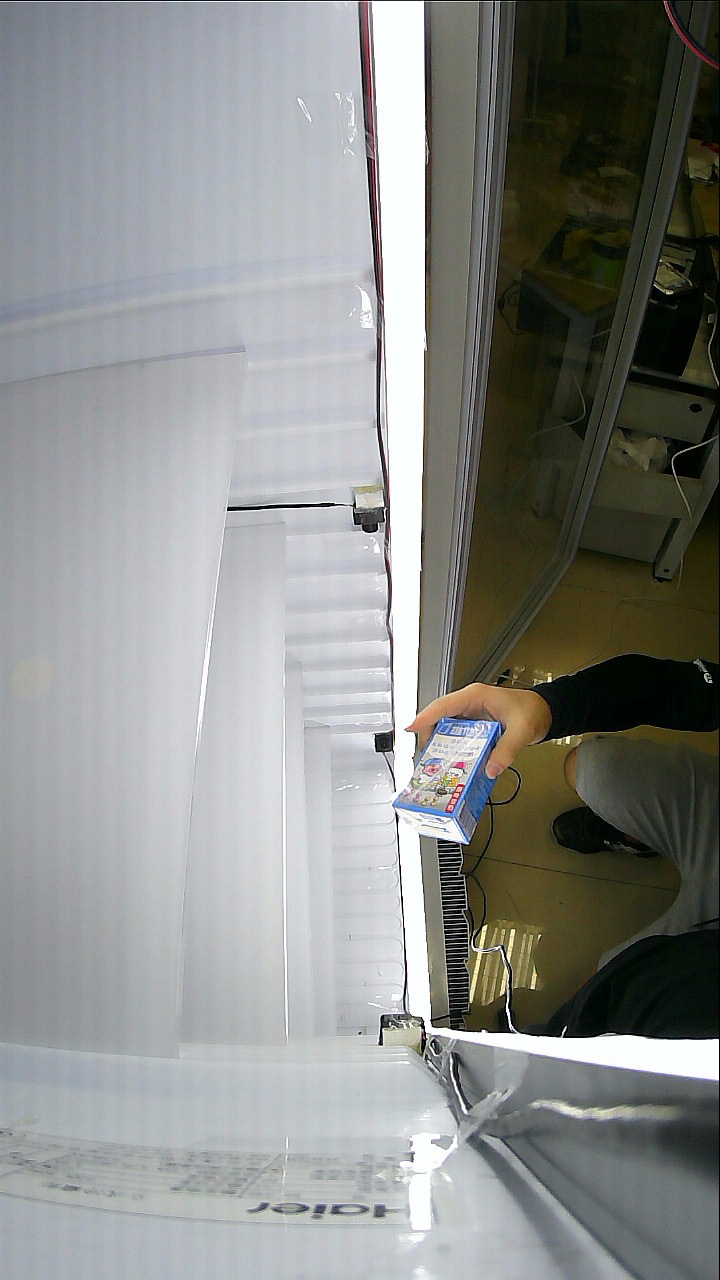VitaSoyOriginal: (396, 682, 558, 847)
